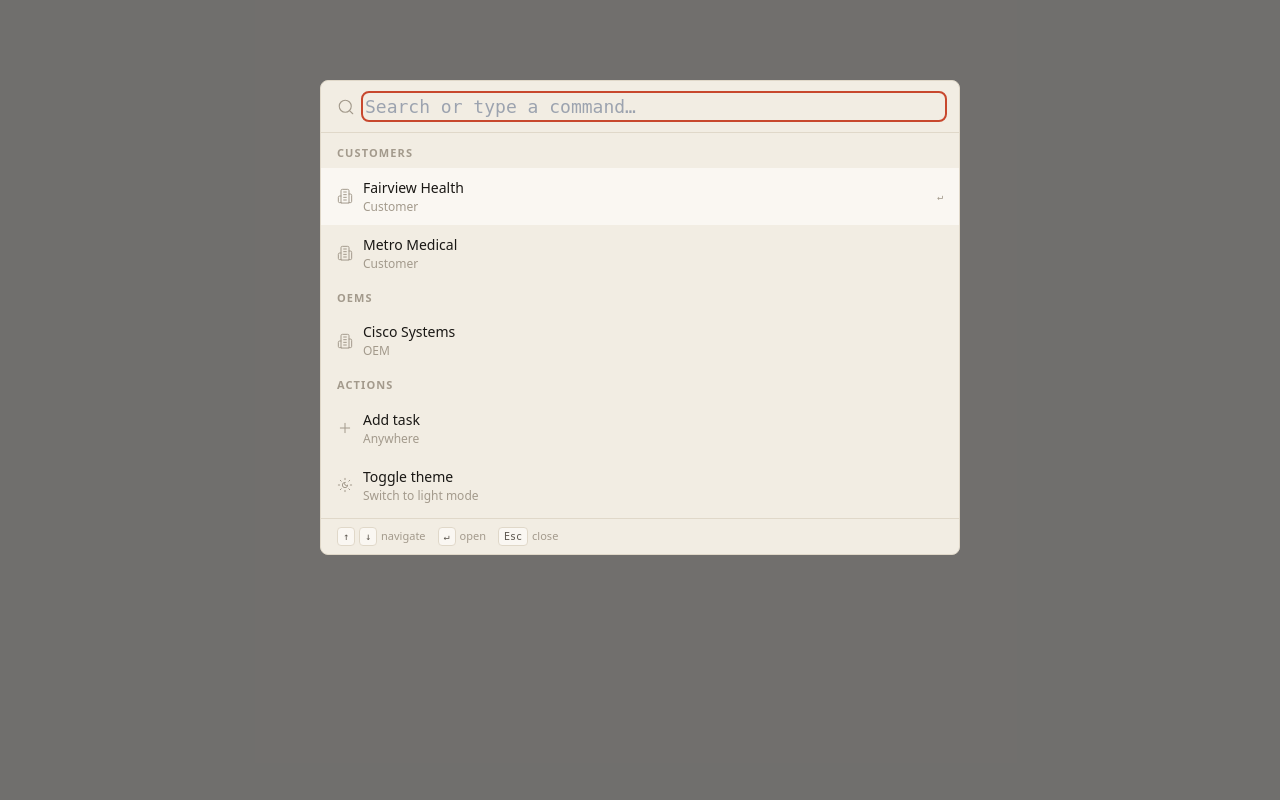
Test: CommandPalette — filtering › filters are case-insensitive
In the dropdown: (654, 107) [365, 95, 943, 118], type "METRO"
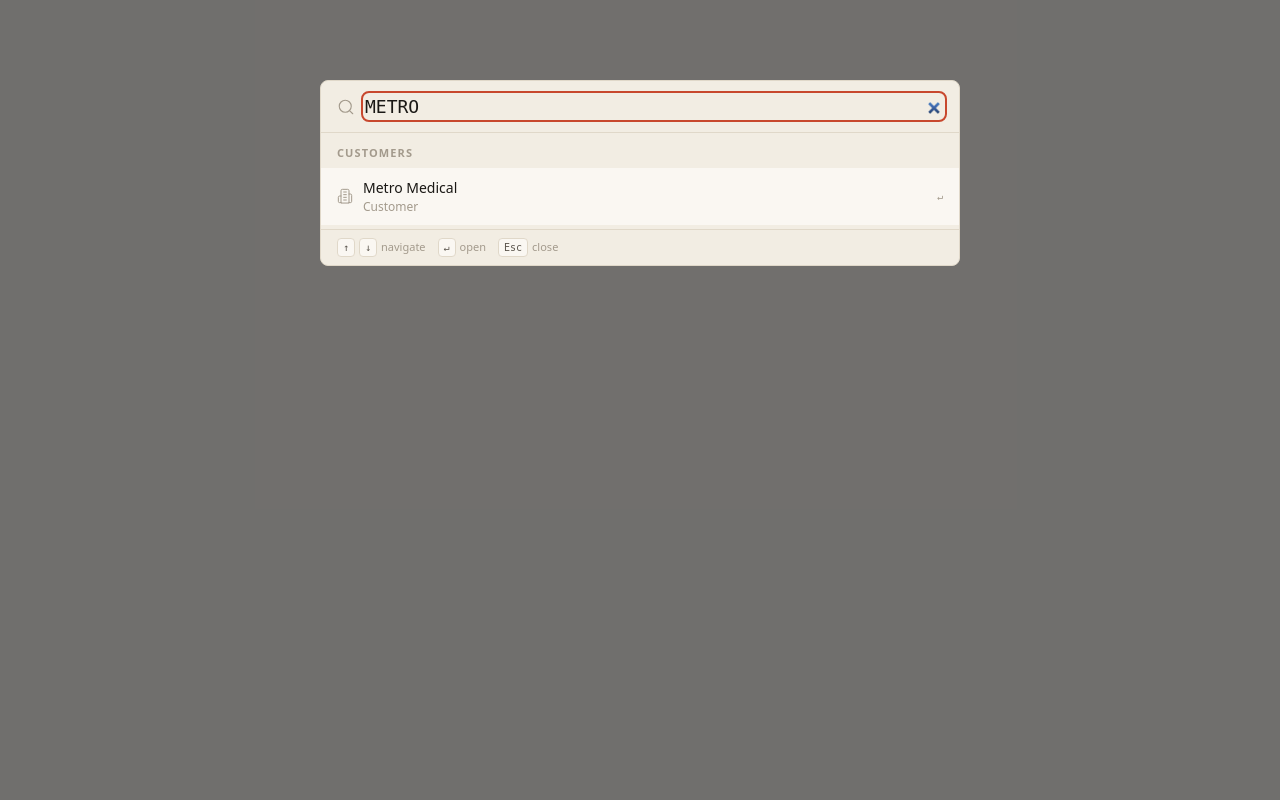
Expected: the text "Metro Medical" is shown, [363, 177, 457, 198]
Now the option "Fairview Health" is gone
